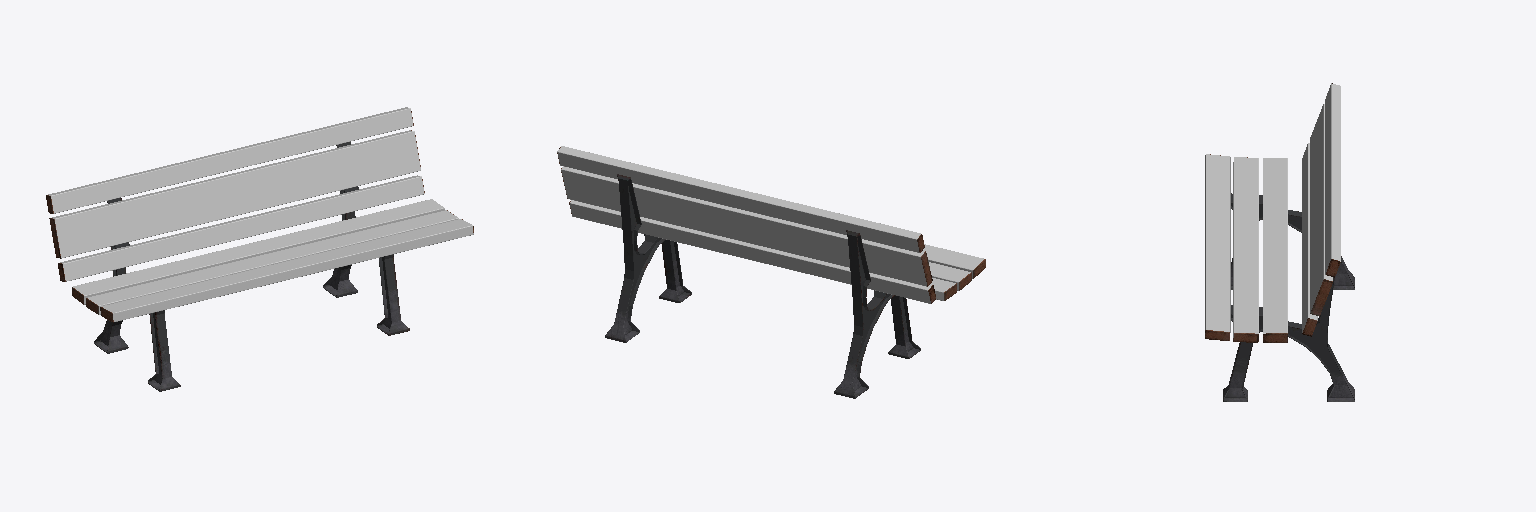
3 views of the same model, side by side, from view 1: azimuth 30°, elevation 25°; view 2: azimuth 150°, elevation 25°; view 3: azimuth 270°, elevation 25° (orthographic).
Visible parts, largest first — view 1: defaultMaterial.001, defaultMaterial.002, defaultMaterial; view 2: defaultMaterial.001, defaultMaterial.002, defaultMaterial; view 3: defaultMaterial.001, defaultMaterial.002, defaultMaterial.
Part boxes in pixels (x1,y1,x2,y2): defaultMaterial.001: (48, 107, 473, 321); defaultMaterial.002: (94, 142, 409, 391); defaultMaterial: (46, 111, 473, 322); defaultMaterial.001: (557, 146, 983, 303); defaultMaterial.002: (605, 174, 920, 398); defaultMaterial: (557, 147, 985, 303); defaultMaterial.001: (1205, 83, 1340, 337); defaultMaterial.002: (1223, 193, 1354, 401); defaultMaterial: (1205, 83, 1340, 342).
Size of the model in its own units: 2 by 0.8992 by 0.723.
Materials: 3 (2 with a texture image).